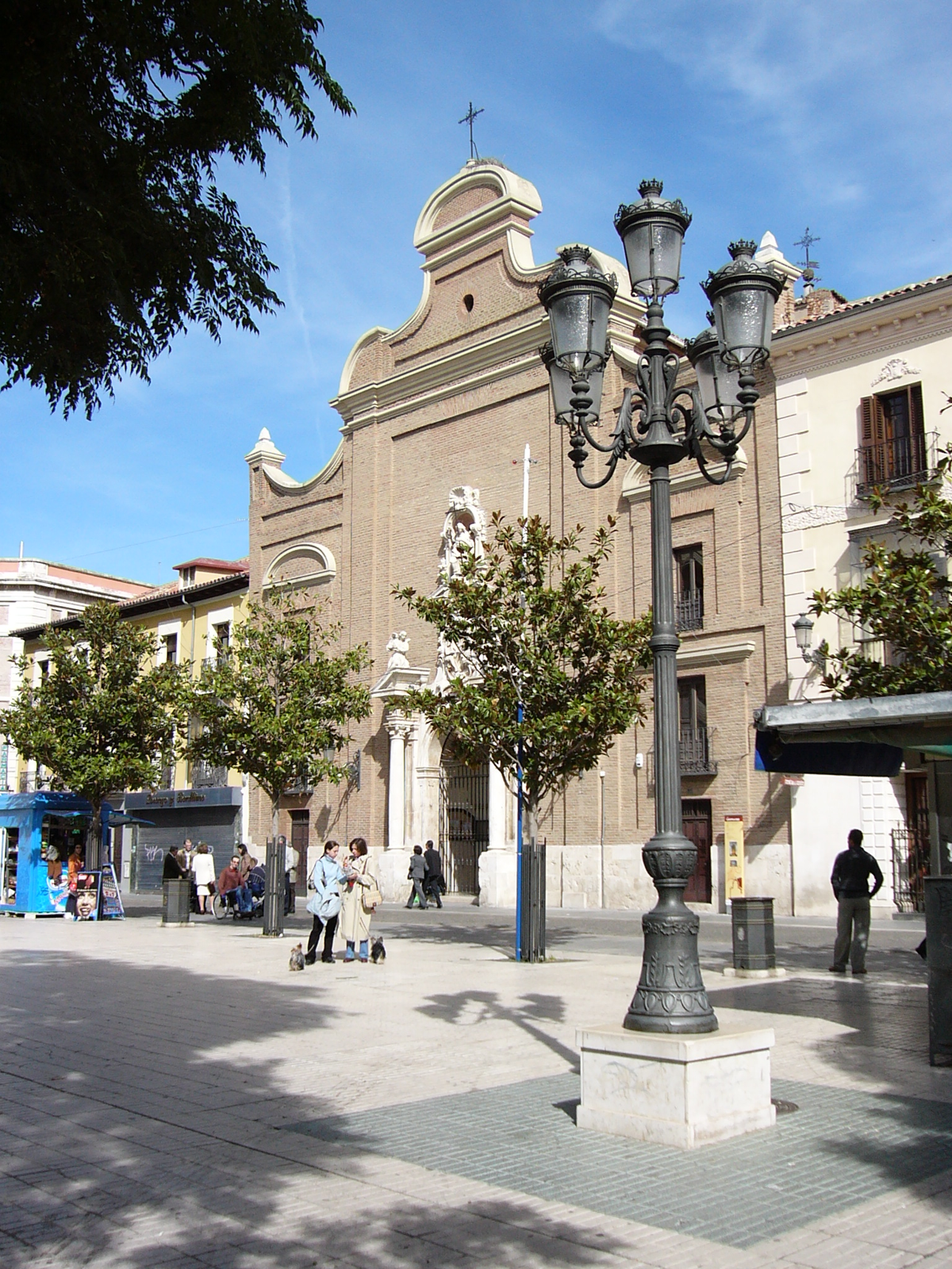fachada: (254, 163, 781, 924), (789, 258, 952, 952), (0, 555, 210, 837), (32, 623, 266, 805)
poste: (539, 181, 782, 1147)
